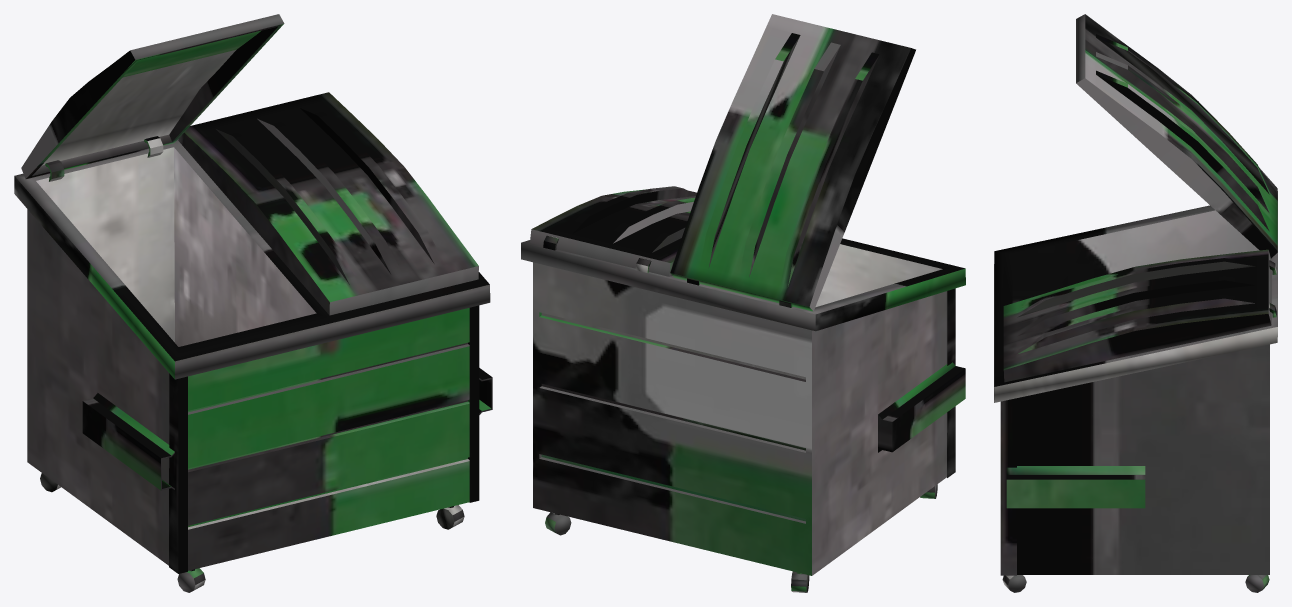
The model's file is wheelie-bin.glb.
3 renders of one model, left to right at view 1: azimuth 30°, elevation 25°; view 2: azimuth 150°, elevation 25°; view 3: azimuth 270°, elevation 25°, orthographic. The views are drawn at different scales.
Parts seen in each view (by area): view 1: SM_TrashBin_Outside_0; view 2: SM_TrashBin_Outside_0; view 3: SM_TrashBin_Outside_0.
Boxes of the visible parts, bbox=[...] form: SM_TrashBin_Outside_0: bbox=[14, 14, 492, 592]; SM_TrashBin_Outside_0: bbox=[521, 14, 965, 592]; SM_TrashBin_Outside_0: bbox=[994, 14, 1277, 592].
Bounding box in the file's own units: 1.49 × 2.21 × 1.25.
1 material, 1 textured.
